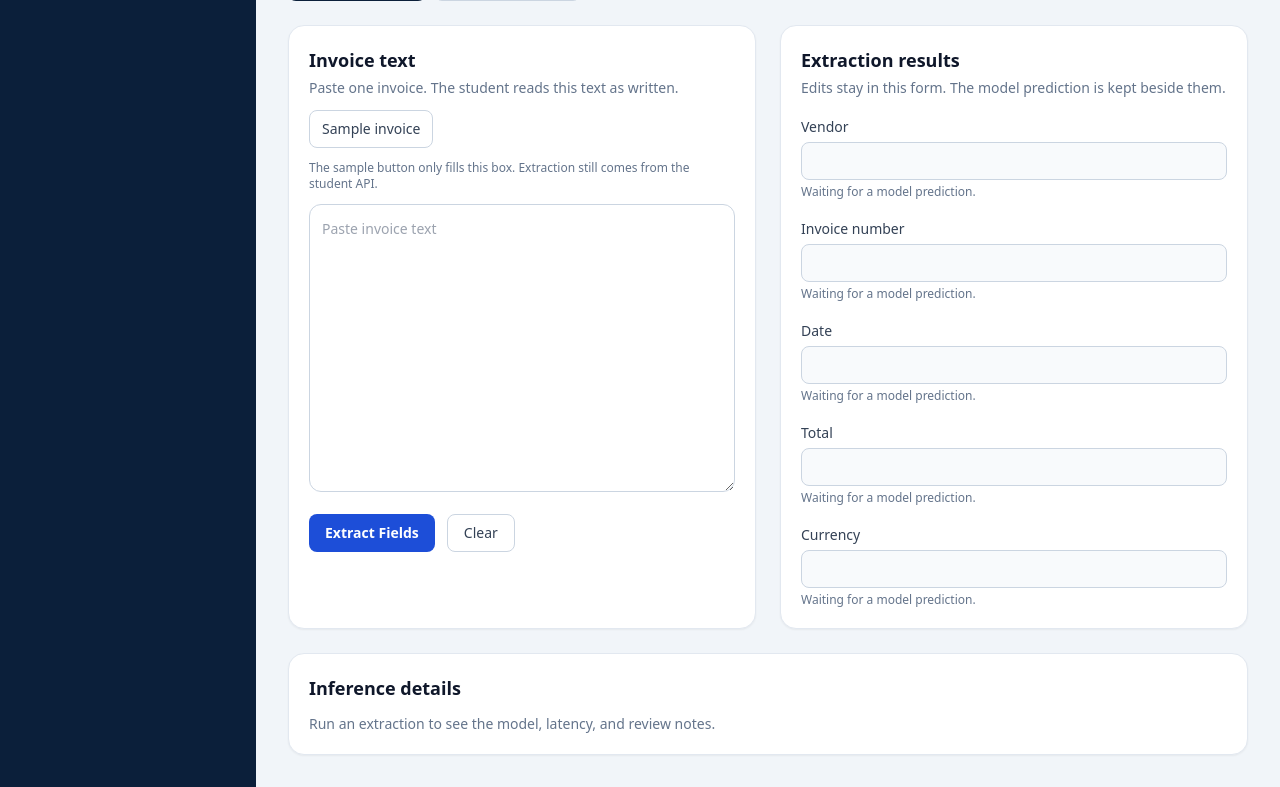
Test case: DistillOps workspace › blocks an empty invoice before calling extract
(page scrolled)
Click the button "Extract Fields" at coordinates (372, 533), box [309, 514, 435, 552]
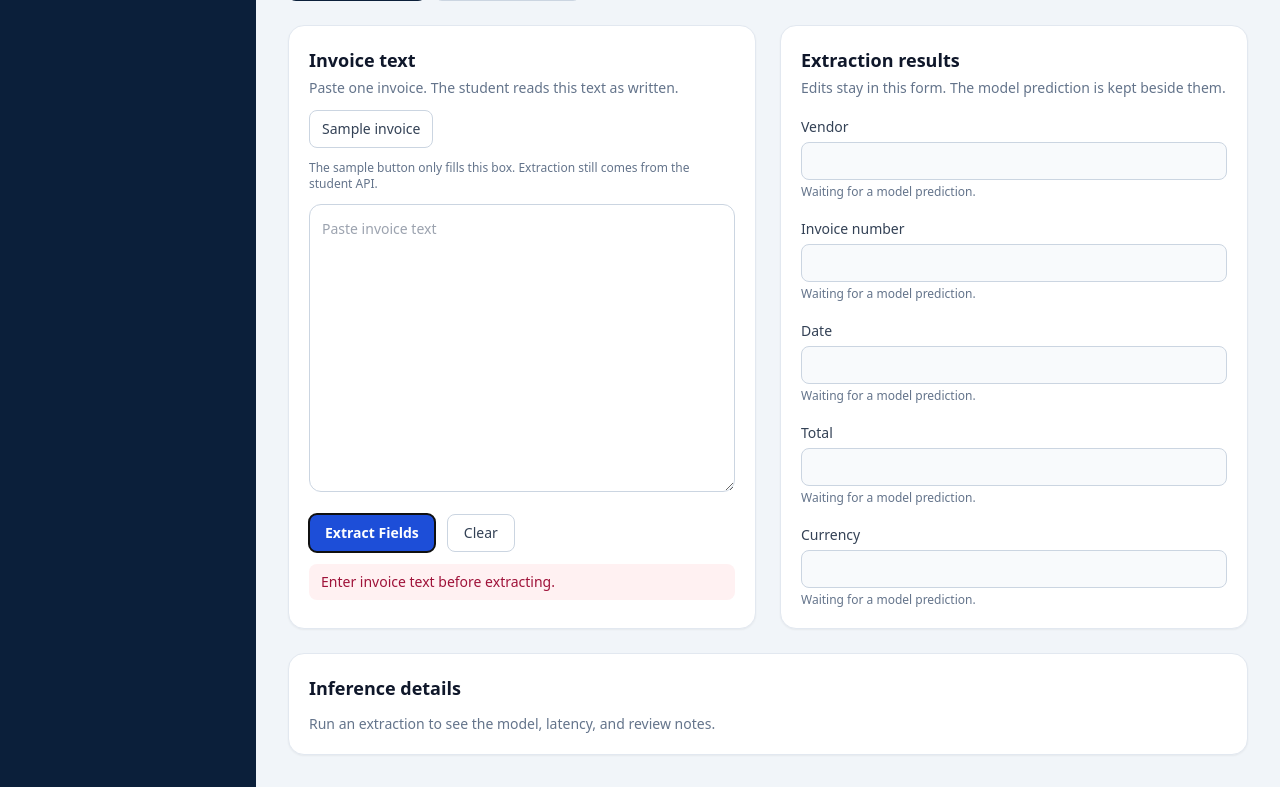
Expected: the message reads "Enter invoice text before extracting.", [321, 572, 555, 591]
